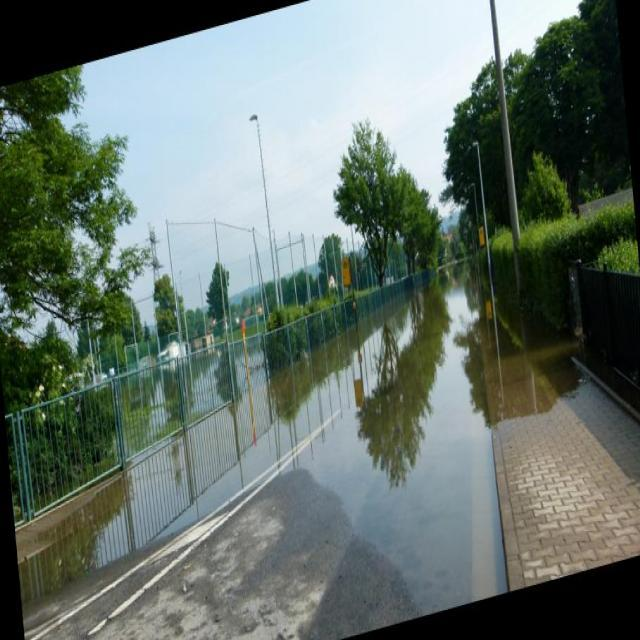flood: (137, 262, 507, 639)
